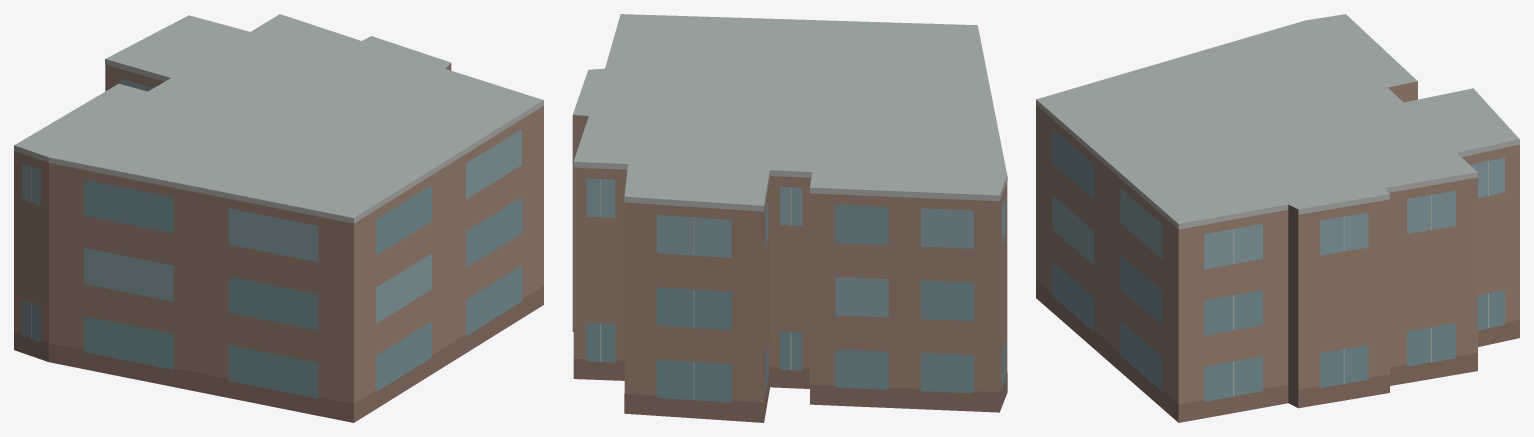
File: survey-upis-32467882.glb
3 renders of one model, left to right at view 1: azimuth 30°, elevation 25°; view 2: azimuth 150°, elevation 25°; view 3: azimuth 270°, elevation 25°, orthographic. The views are drawn at different scales.
Visible parts, largest first — view 1: survey-upis-32467882.tmp; view 2: survey-upis-32467882.tmp; view 3: survey-upis-32467882.tmp.
Part boxes in pixels (x1=…): survey-upis-32467882.tmp: x1=14, y1=14, x2=543, y2=422; survey-upis-32467882.tmp: x1=572, y1=14, x2=1007, y2=422; survey-upis-32467882.tmp: x1=1036, y1=14, x2=1519, y2=422.
Size of the model in its own units: 20.76 by 9.15 by 20.19.
